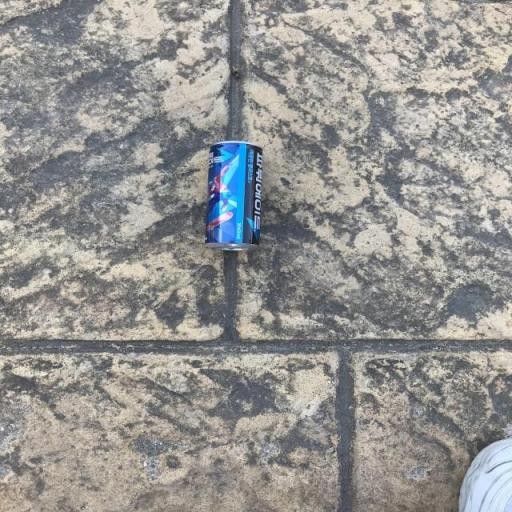metal: (186, 130, 284, 267)
